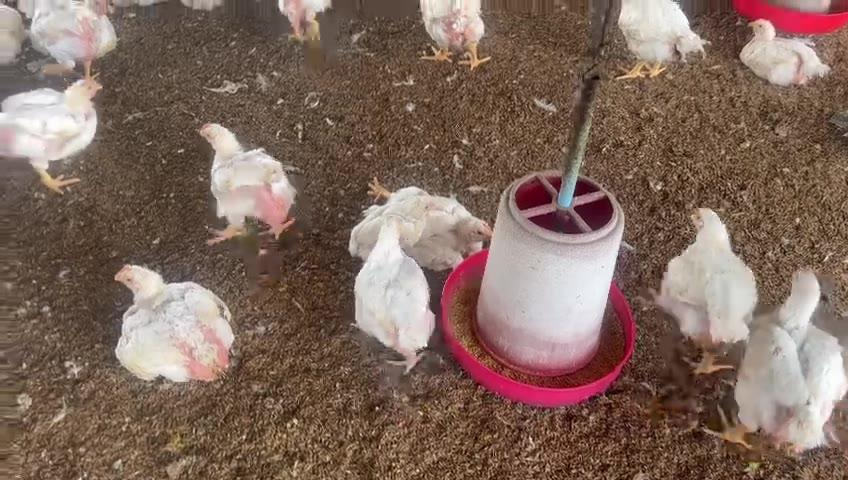AbNormal: (106, 255, 245, 392), (360, 162, 498, 268), (739, 13, 833, 88)
Normal: (729, 259, 848, 456), (654, 205, 755, 374), (349, 216, 435, 373), (196, 116, 298, 245), (0, 75, 102, 194), (612, 0, 715, 94), (32, 1, 130, 91), (416, 0, 501, 74), (269, 0, 346, 44)
